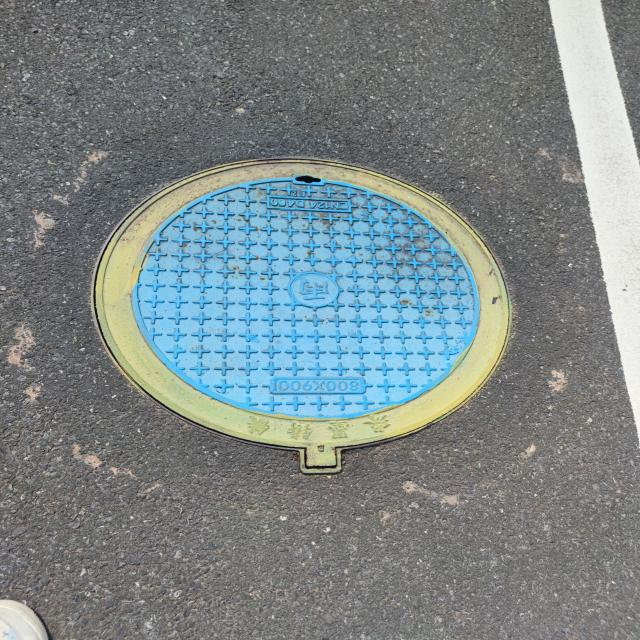Good: (90, 157, 517, 478)
